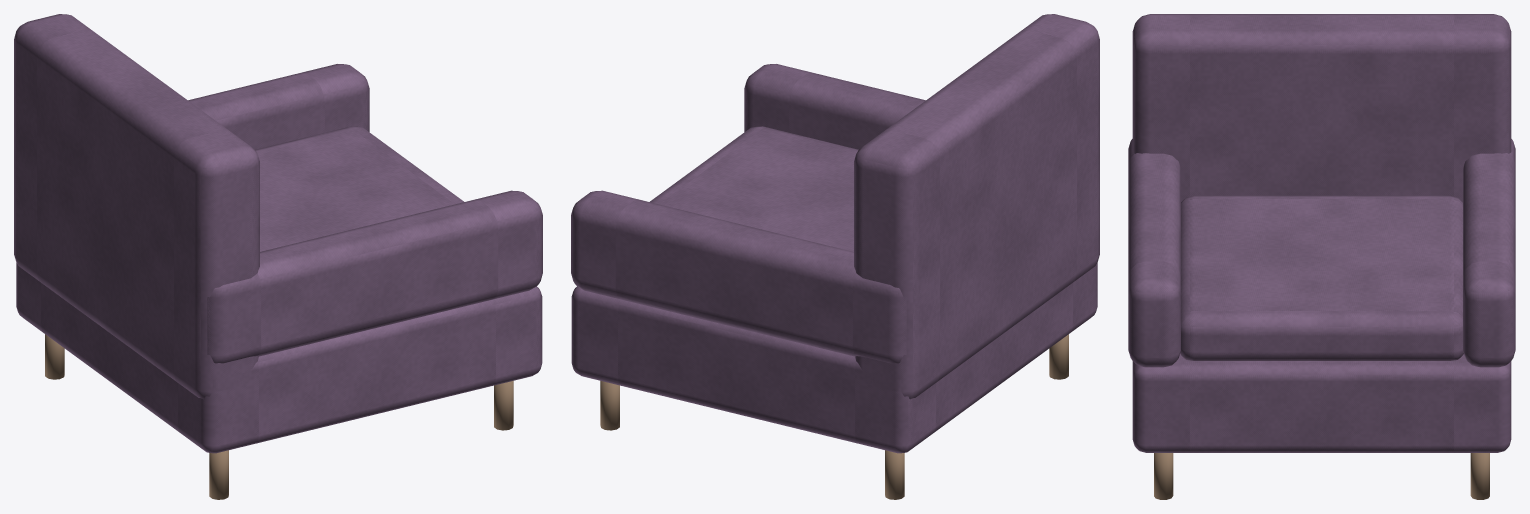
The model's file is consulta.sillon_paciente.fbx.
The picture shows the model from 3 angles, left to right: view 1: azimuth 30°, elevation 25°; view 2: azimuth 150°, elevation 25°; view 3: azimuth 270°, elevation 25°; orthographic projection. The views are drawn at different scales.
Visible parts, largest first — view 1: Respaldo, Base, Brazo.001, Cojin, Brazo, Pata.003, Pata.001, Pata.002; view 2: Respaldo, Base, Brazo, Cojin, Brazo.001, Pata.002, Pata, Pata.003; view 3: Respaldo, Cojin, Base, Brazo, Brazo.001, Pata, Pata.001.
Part boxes in pixels (left/top/right/bottom): Respaldo: left=14, top=14, right=259, bottom=399; Base: left=16, top=262, right=542, bottom=453; Brazo.001: left=207, top=190, right=542, bottom=363; Cojin: left=255, top=126, right=463, bottom=251; Brazo: left=188, top=64, right=369, bottom=149; Pata.003: left=209, top=450, right=228, bottom=499; Pata.001: left=494, top=381, right=513, bottom=430; Pata.002: left=45, top=334, right=64, bottom=379; Respaldo: left=854, top=14, right=1099, bottom=399; Base: left=571, top=262, right=1097, bottom=453; Brazo: left=571, top=190, right=906, bottom=363; Cojin: left=650, top=126, right=858, bottom=251; Brazo.001: left=744, top=64, right=925, bottom=149; Pata.002: left=885, top=450, right=904, bottom=499; Pata: left=600, top=381, right=619, bottom=430; Pata.003: left=1049, top=334, right=1068, bottom=379; Respaldo: left=1132, top=14, right=1511, bottom=201; Cojin: left=1180, top=195, right=1463, bottom=360; Base: left=1132, top=354, right=1511, bottom=452; Brazo: left=1463, top=139, right=1515, bottom=367; Brazo.001: left=1128, top=139, right=1180, bottom=367; Pata: left=1470, top=453, right=1489, bottom=499; Pata.001: left=1154, top=453, right=1173, bottom=499.
Size of the model in its own units: 0.87 by 0.85 by 0.88.
2 materials, 1 textured.
